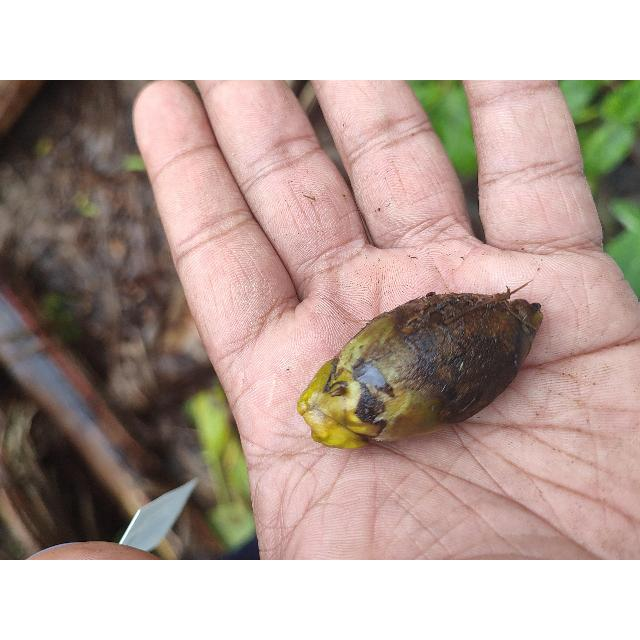damaged: (297, 290, 543, 448)
